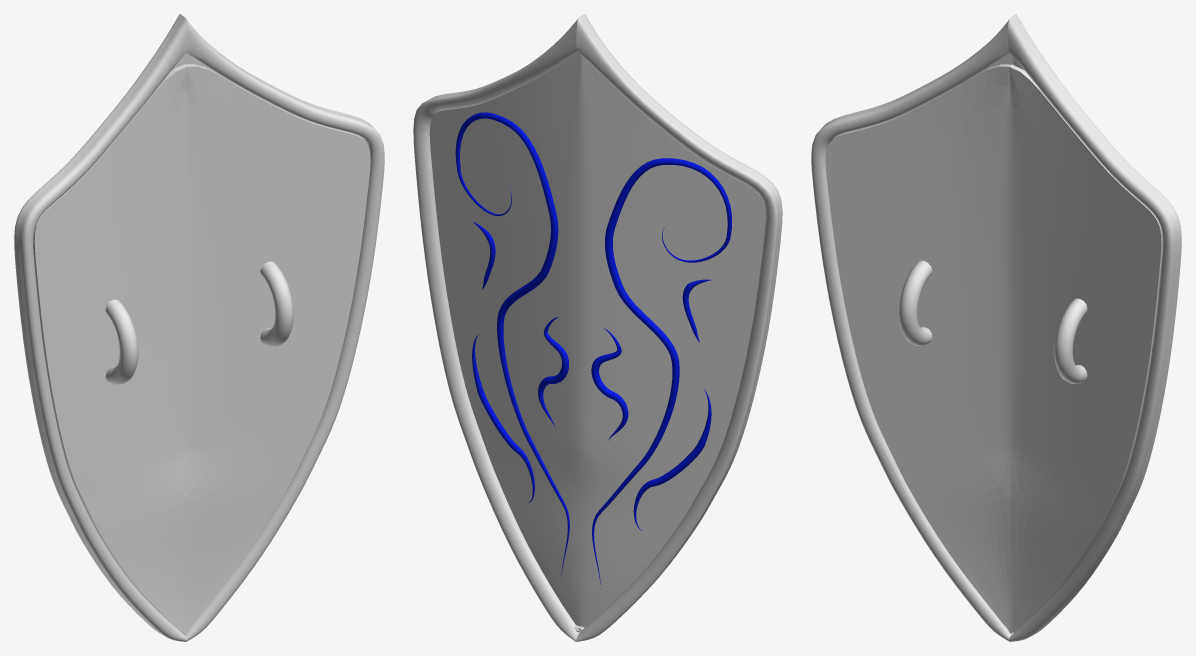
File: US_Escudo_Fixed.fbx
3 views of the same model, side by side, from view 1: azimuth 30°, elevation 25°; view 2: azimuth 150°, elevation 25°; view 3: azimuth 330°, elevation 25° (orthographic).
Parts seen in each view (by area): view 1: Reforco, Escudo, Pegas; view 2: Escudo, Ornamentos; view 3: Reforco, Escudo, Pegas.
Boxes of the visible parts, x1,y1,x2,y2 form: Reforco: (33,64,370,633); Escudo: (14,14,384,641); Pegas: (105,261,293,384); Escudo: (413,14,782,641); Ornamentos: (455,112,731,584); Reforco: (825,64,1162,633); Escudo: (811,14,1181,641); Pegas: (899,260,1087,383).
Bounding box in the file's own units: 299 × 50.74 × 488.
